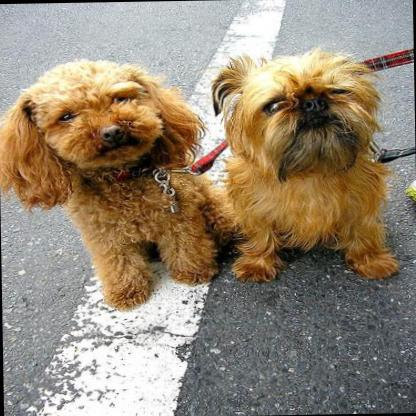toy_poodle: (0, 55, 235, 311)
